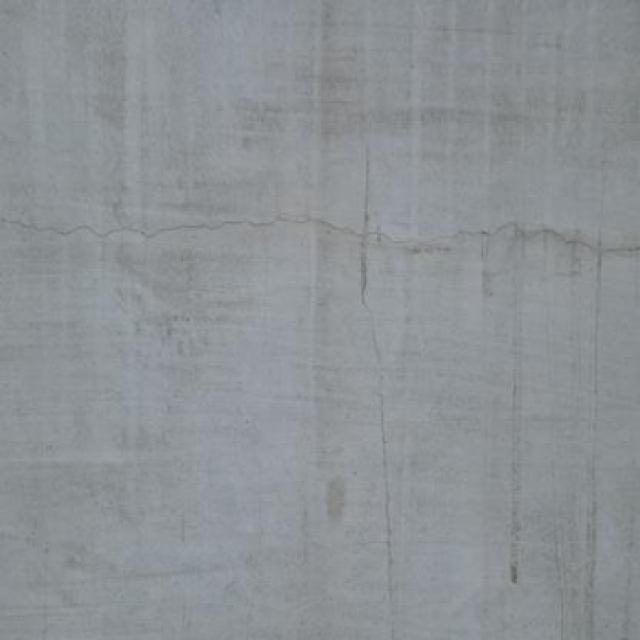horizontal crack: (0, 214, 639, 258)
